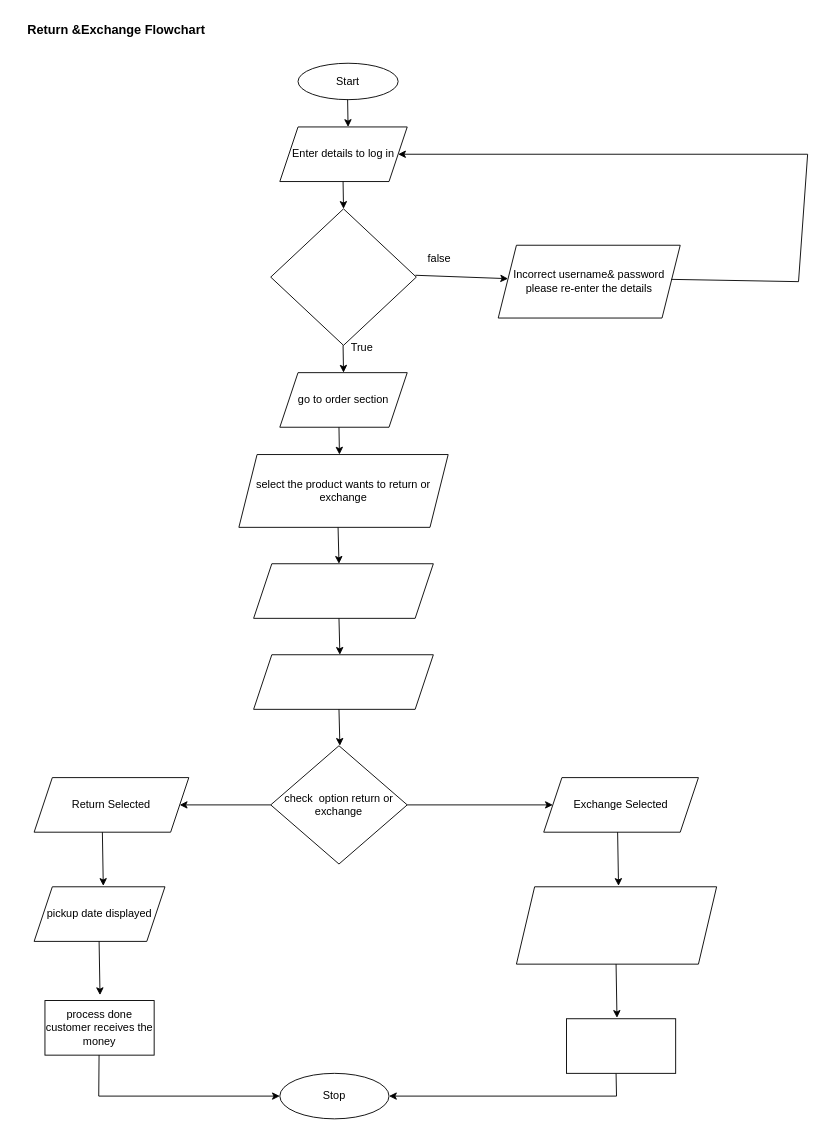
This 831x1135 diagram has some shape labels left out. The shapes that lost their labels are listed below. From the top down, each one's centre as x and y in pixels, then its label:
pixel 343 276: Check the username & password
pixel 343 590: enter the feedback or concerns about the product
pixel 343 681: select return or Exchange
pixel 616 925: pickup date displayed and ready to exchange
pixel 621 1045: process done customer receives the product
